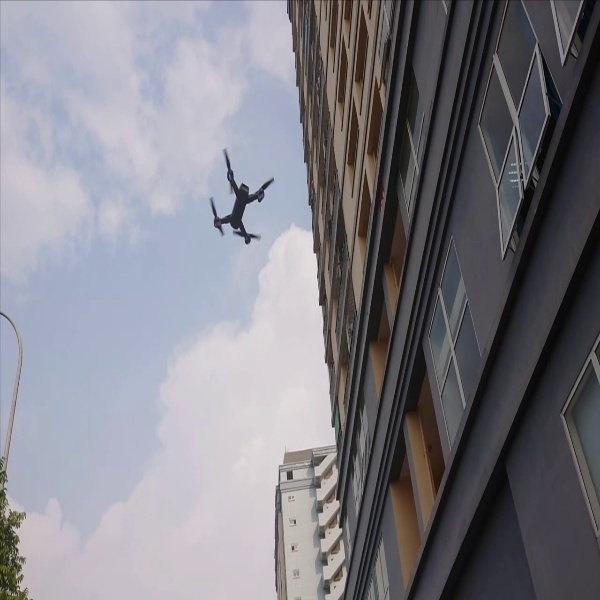drone: (200, 147, 277, 249)
